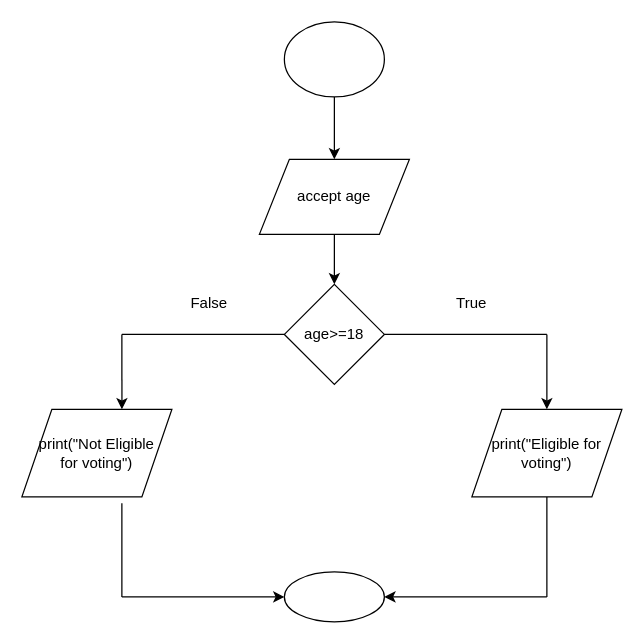
Image size: 644x644. Some labels were removed from this diagram. Each missing label, with the centre of its shape:
"start" goes at point (333, 59).
"stop" goes at point (333, 596).
